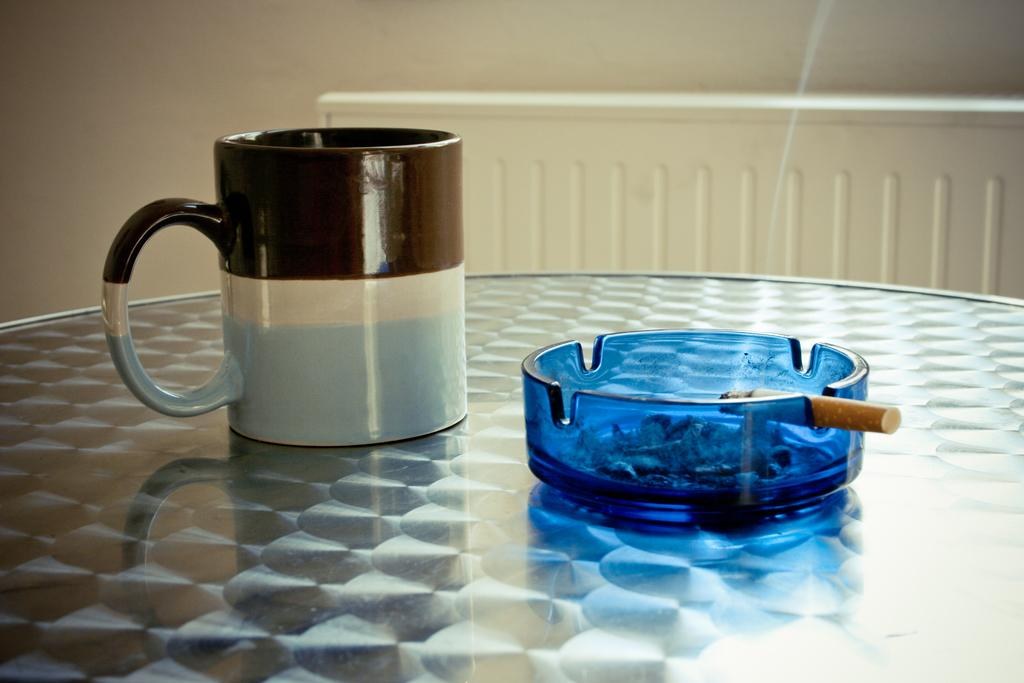Luggage-and-bags: (519, 327, 899, 525)
